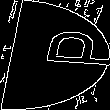P_W: (6, 34, 104, 76)
